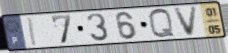3: (86, 12, 110, 43)
6: (114, 11, 139, 41)
7: (50, 14, 74, 46)
I: (27, 16, 39, 47)
Q: (147, 7, 177, 40)
V: (173, 5, 201, 38)
